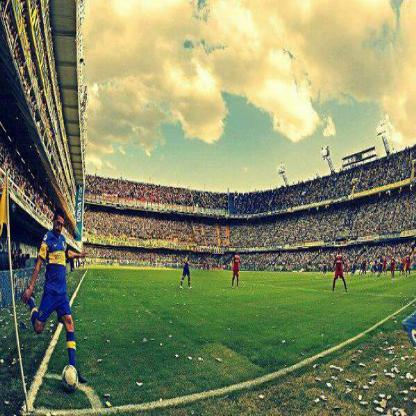corner kick: (2, 165, 115, 416)
